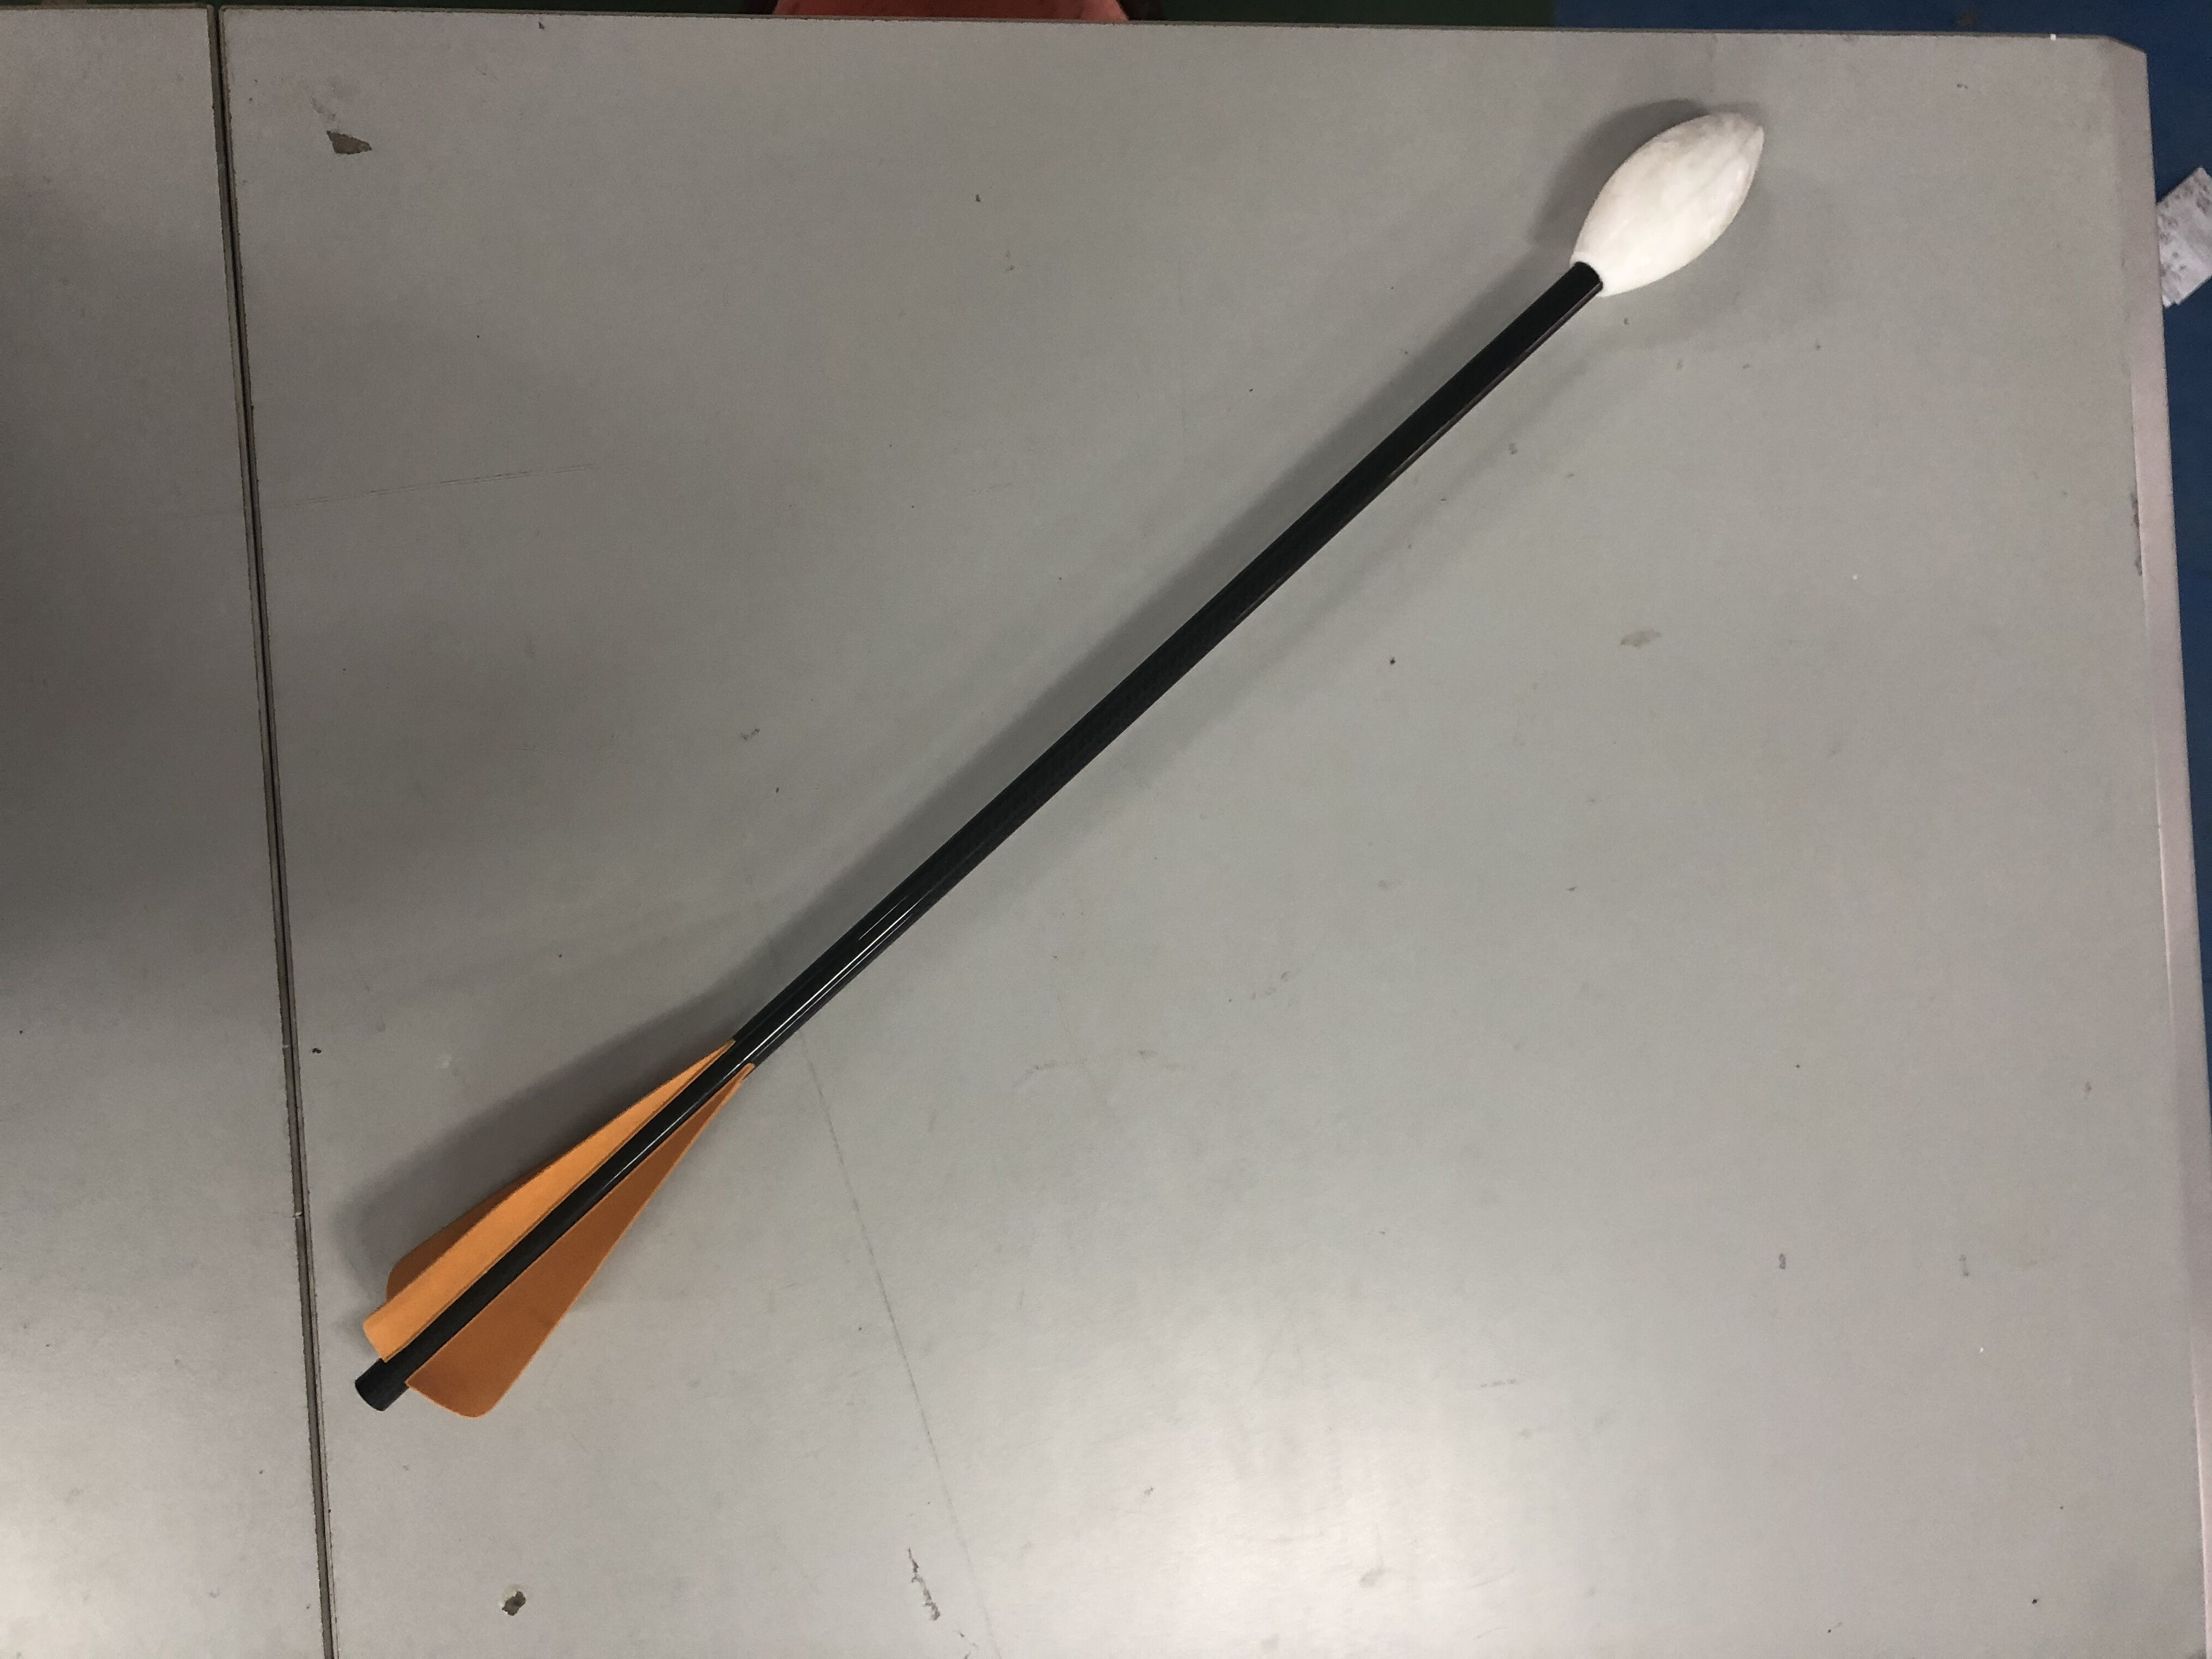arrow: (348, 106, 1775, 1427)
arrowFront: (1566, 106, 1764, 301)
